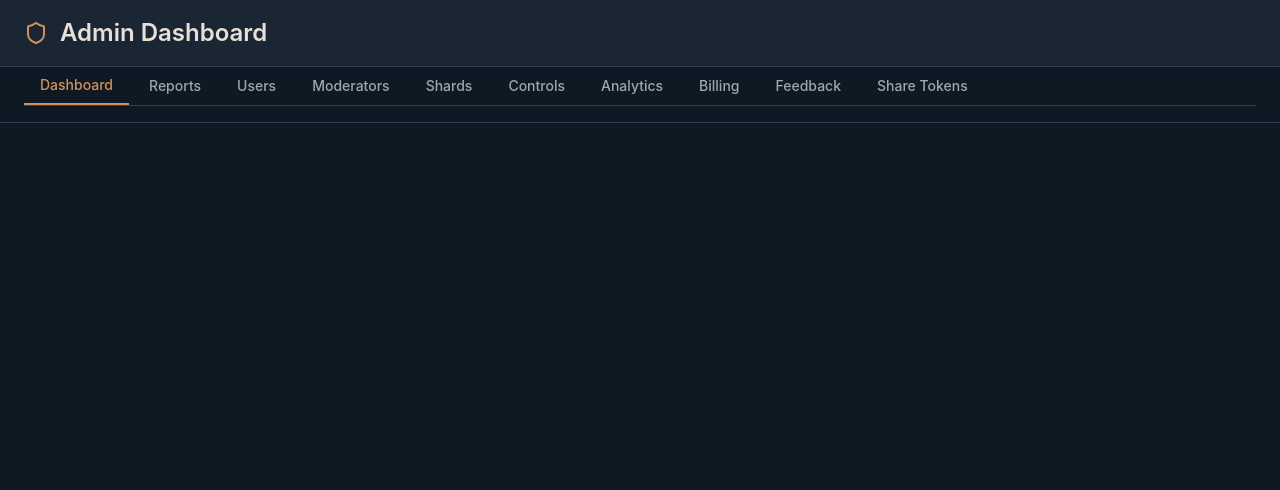
the admin controls' own text comes from the locale (Rule 14) › the tick badge and the paused note
Click the tab "Controls" at (537, 86), box [492,67,581,105]
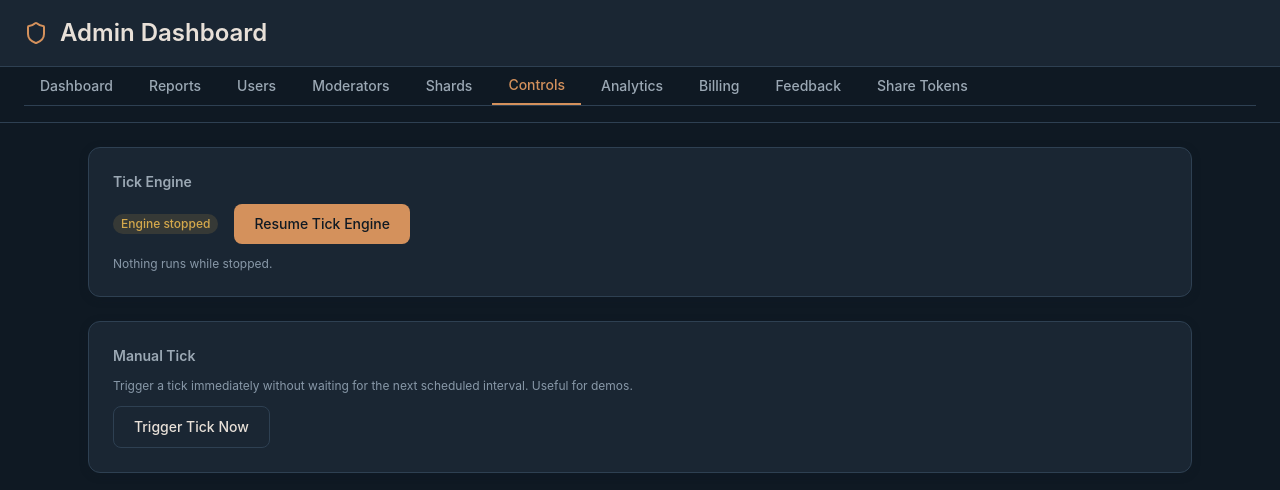
Expected: the text "Engine stopped" is shown, [113,214,218,234]
Expected: the text "Nothing runs while stopped." is shown, [113,256,272,271]
